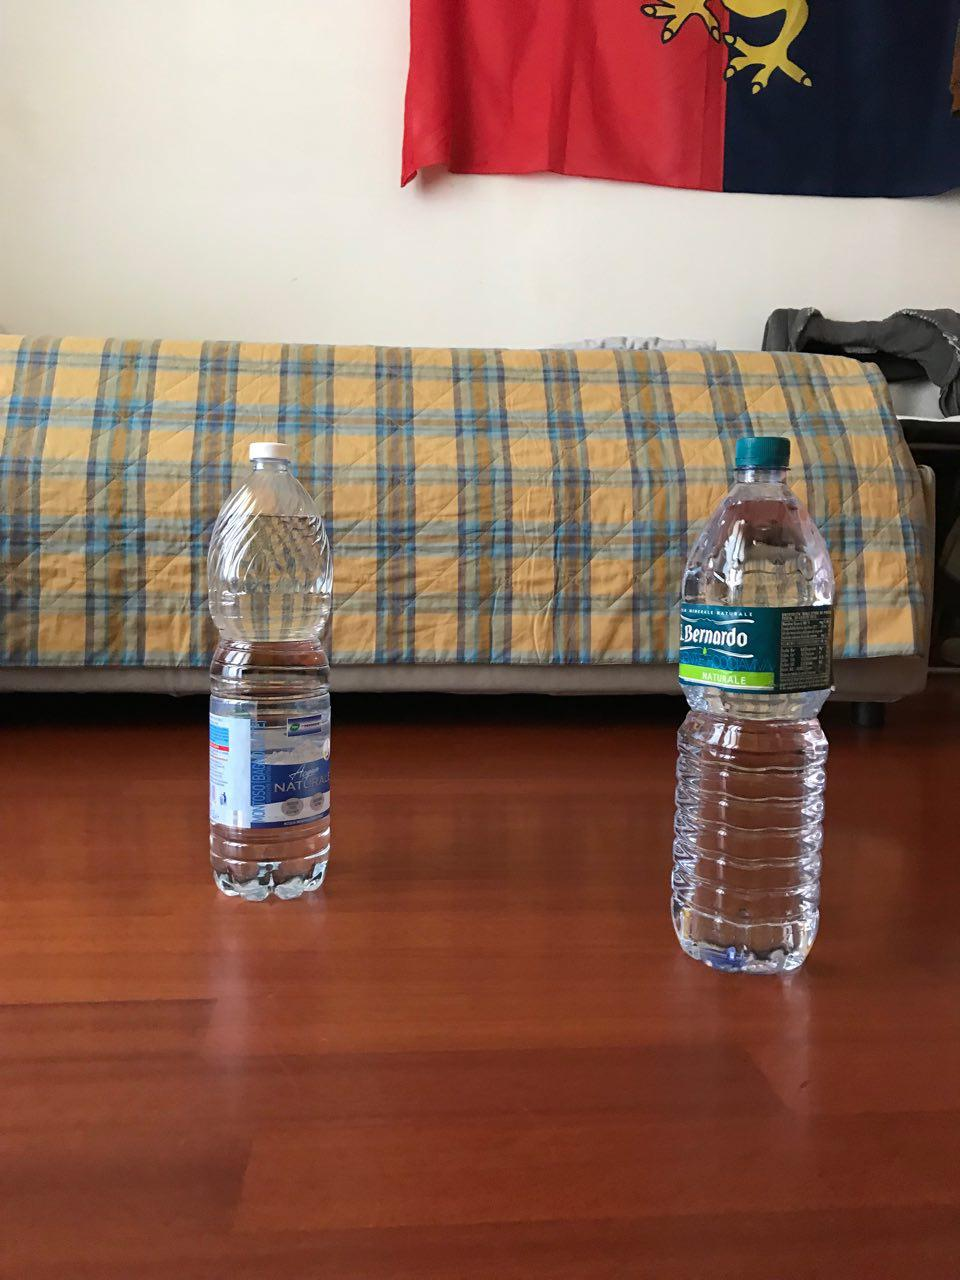san_bernardo: (669, 435, 836, 974)
